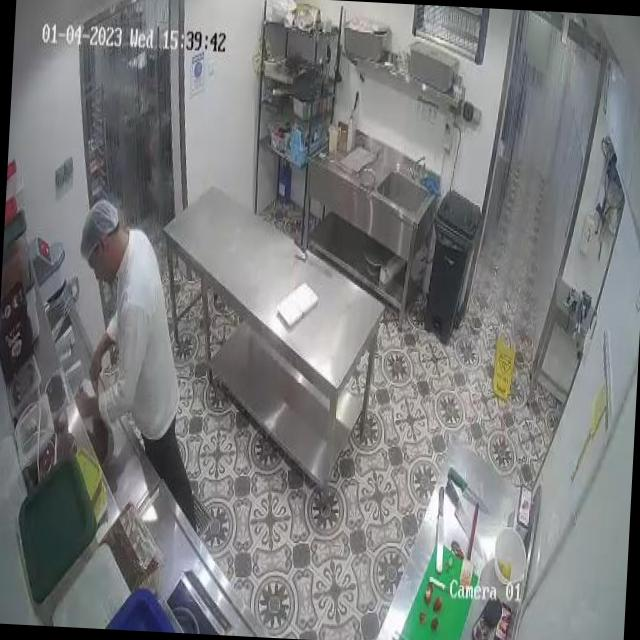hairnet: (79, 200, 116, 250)
